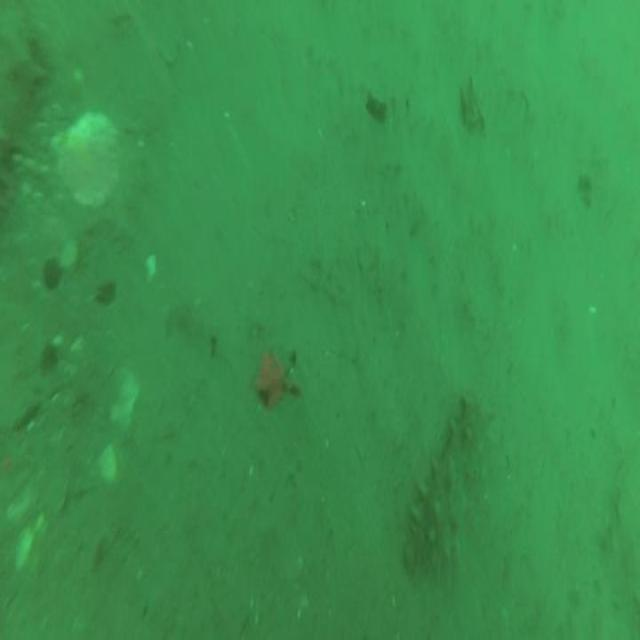holothurian: (406, 397, 494, 572)
scallop: (50, 112, 122, 210)
